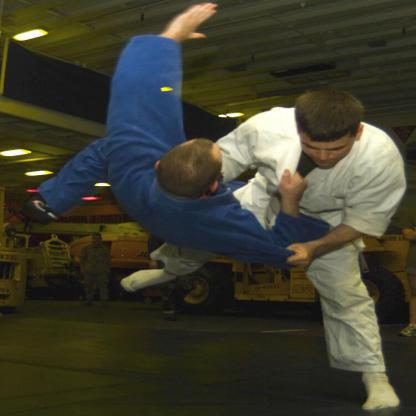Fall_Down: (33, 4, 322, 267)
